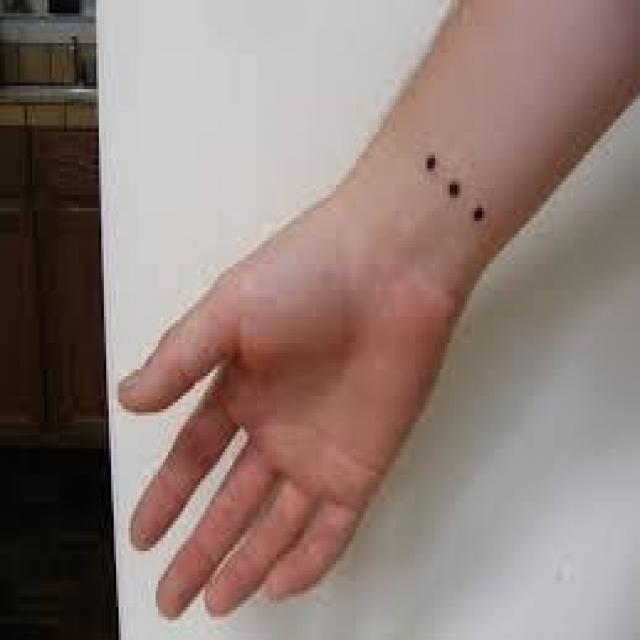hand: (116, 196, 467, 619)
